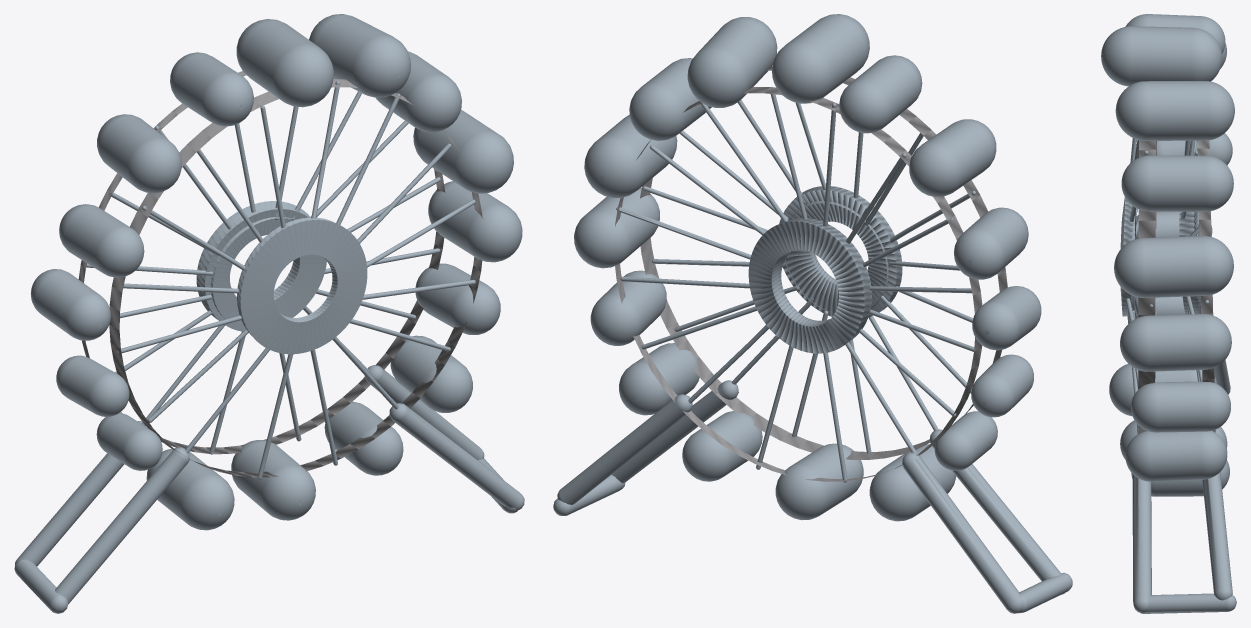
The model's file is LondonEye.fbx.
The picture shows the model from 3 angles, left to right: view 1: azimuth 30°, elevation 25°; view 2: azimuth 150°, elevation 25°; view 3: azimuth 270°, elevation 25°; orthographic projection. The views are drawn at different scales.
Visible parts, largest first — view 1: londoneye; view 2: londoneye; view 3: londoneye.
Part boxes in pixels (x1,y1,x2,y2): londoneye: [14, 14, 524, 613]; londoneye: [553, 14, 1072, 613]; londoneye: [1101, 14, 1236, 613].
Size of the model in its own units: 24.56 by 25.83 by 6.54.
